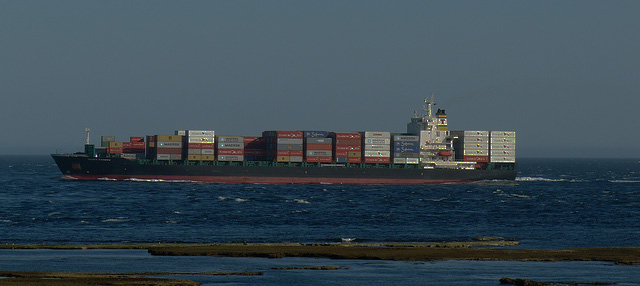container_ship: (48, 95, 519, 189)
